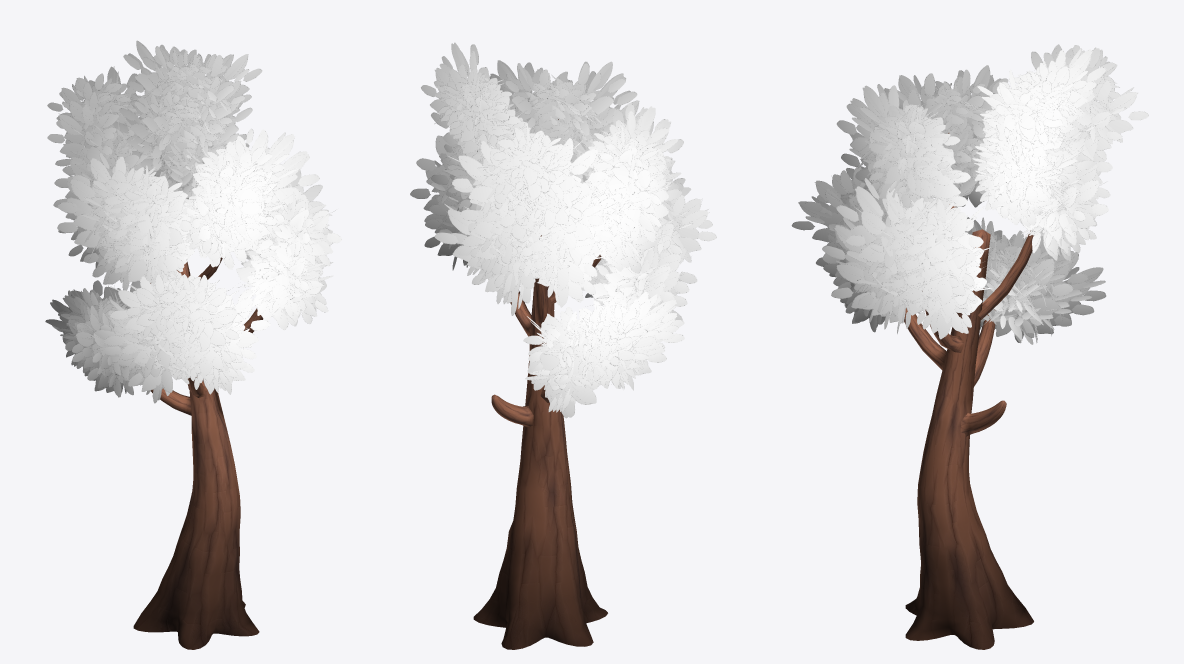
The model's file is CommonTree_5.gltf.
3 views of the same model, side by side, from view 1: azimuth 30°, elevation 25°; view 2: azimuth 150°, elevation 25°; view 3: azimuth 270°, elevation 25° (orthographic). The views are drawn at different scales.
Visible parts, largest first — view 1: CommonTree_5; view 2: CommonTree_5; view 3: CommonTree_5.
Part boxes in pixels (x1,y1,x2,y2): CommonTree_5: (45, 40, 341, 649); CommonTree_5: (410, 42, 716, 649); CommonTree_5: (791, 44, 1148, 649).
Size of the model in its own units: 3.67 by 7.01 by 4.22.
2 materials, 2 textured.
